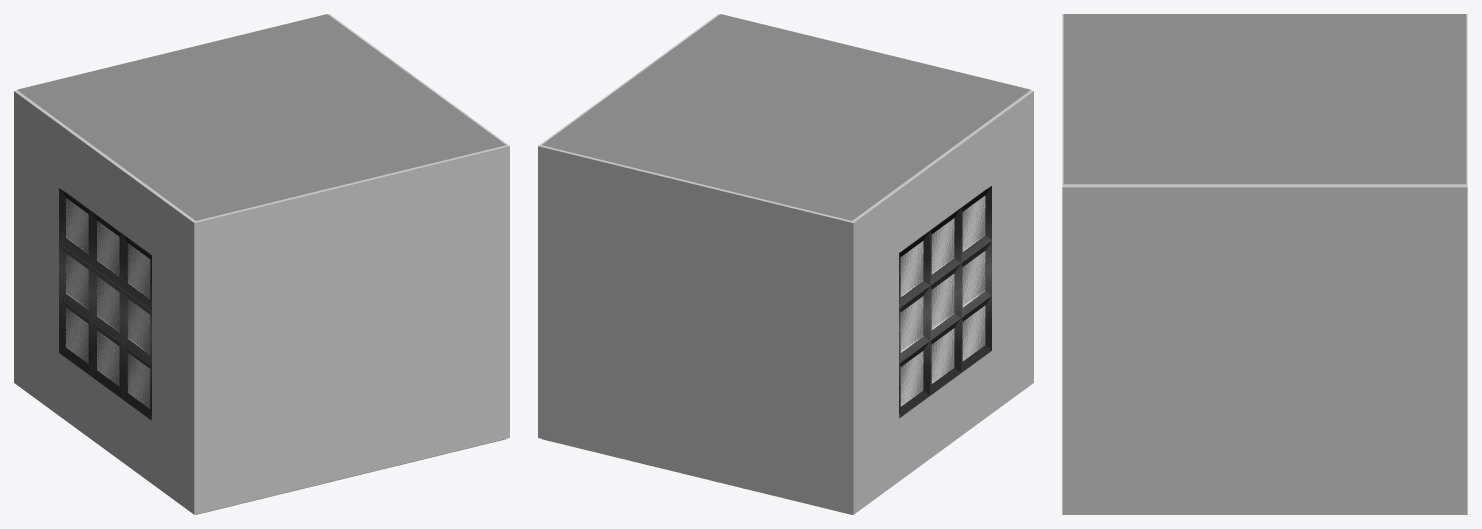
3 renders of one model, left to right at view 1: azimuth 30°, elevation 25°; view 2: azimuth 150°, elevation 25°; view 3: azimuth 270°, elevation 25°, orthographic. The views are drawn at different scales.
Visible parts, largest first — view 1: Box001, Plane002, Object002; view 2: Box001, Plane002, Object002; view 3: Box001, Plane002.
Part boxes in pixels (x1,y1,x2,y2): Box001: (14,14,509,514); Plane002: (17,14,505,220); Object002: (59,188,151,420); Box001: (538,14,1033,514); Plane002: (542,14,1030,220); Object002: (899,186,991,418); Box001: (1062,14,1467,514); Plane002: (1063,14,1466,184).
Size of the model in its own units: 509 by 453 by 503.
Materials: 5 (3 with a texture image).
